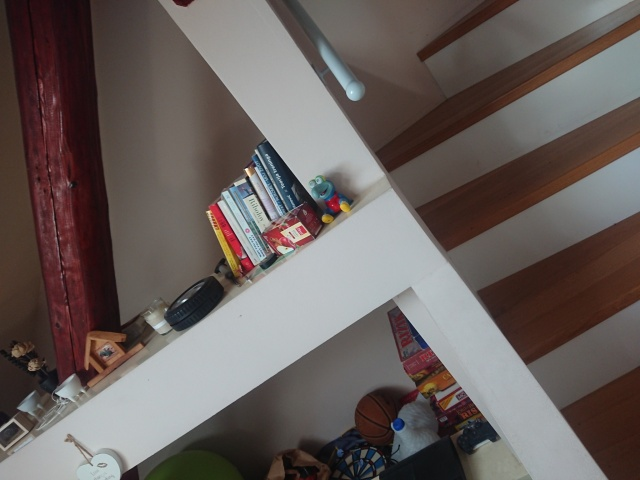Franck Apple Cinnamon Tea 60g: (259, 199, 324, 257)
